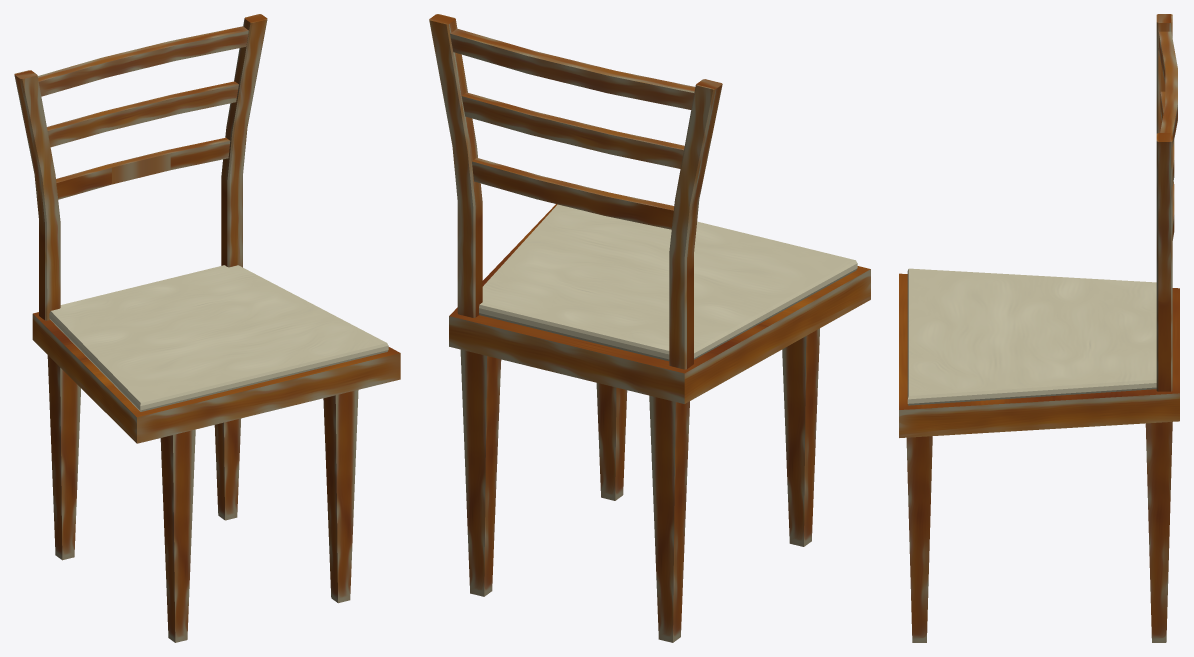
The model's file is Chair.fbx.
3 views of the same model, side by side, from view 1: azimuth 30°, elevation 25°; view 2: azimuth 150°, elevation 25°; view 3: azimuth 270°, elevation 25° (orthographic). The views are drawn at different scales.
Parts seen in each view (by area): view 1: Chair; view 2: Chair; view 3: Chair.
Boxes of the visible parts, x1,y1,x2,y2 form: Chair: [14, 14, 400, 642]; Chair: [429, 14, 870, 642]; Chair: [899, 14, 1179, 642].
Bounding box in the file's own units: 807 × 1429 × 702.
